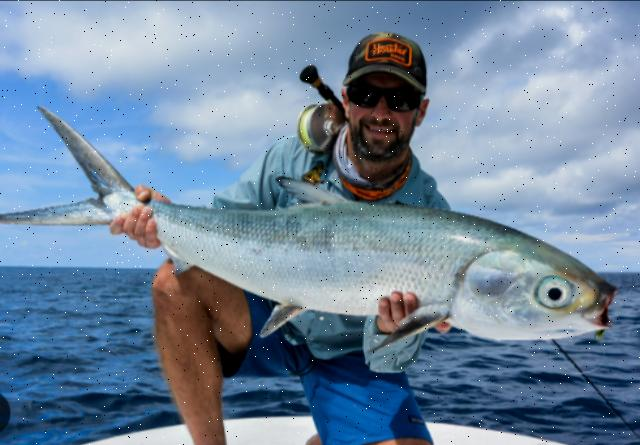Mulut: (561, 259, 633, 352)
Sirip Dada: (350, 298, 468, 370)
Sirip Ekor: (2, 88, 138, 260)
Sirip Perut: (248, 286, 312, 346)
Sirip Punggung: (260, 157, 358, 229)
